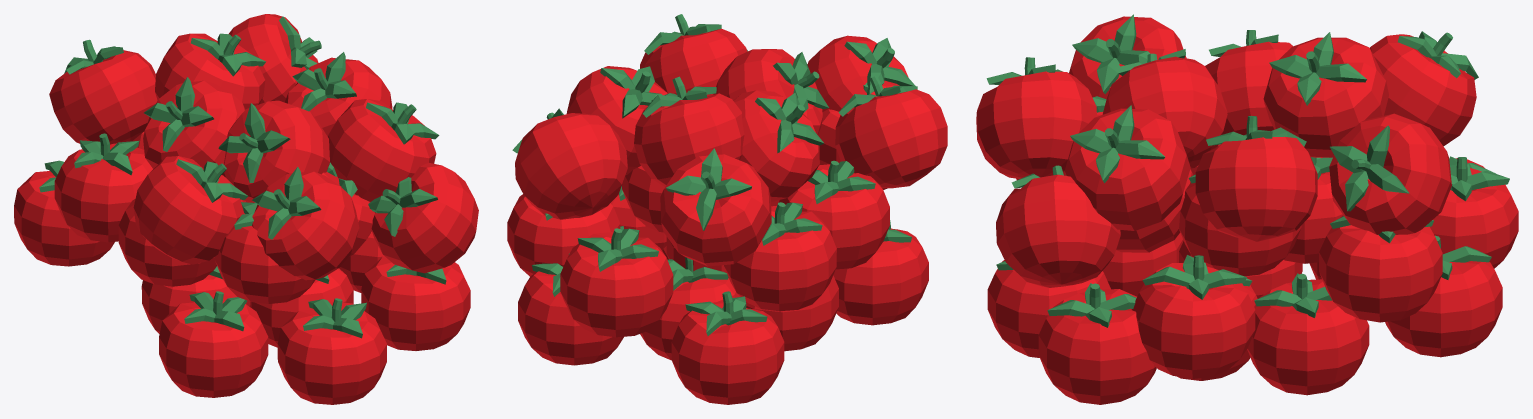
File: tomatoes.fbx
3 views of the same model, side by side, from view 1: azimuth 30°, elevation 25°; view 2: azimuth 150°, elevation 25°; view 3: azimuth 270°, elevation 25° (orthographic). The views are drawn at different scales.
Parts seen in each view (by area): view 1: Sphere.001; view 2: Sphere.001; view 3: Sphere.001.
Part boxes in pixels (<box>): Sphere.001: <box>14,14,478,404</box>; Sphere.001: <box>507,14,947,404</box>; Sphere.001: <box>976,14,1518,404</box>.
Bounding box in the file's own units: 136 × 116 × 181.
